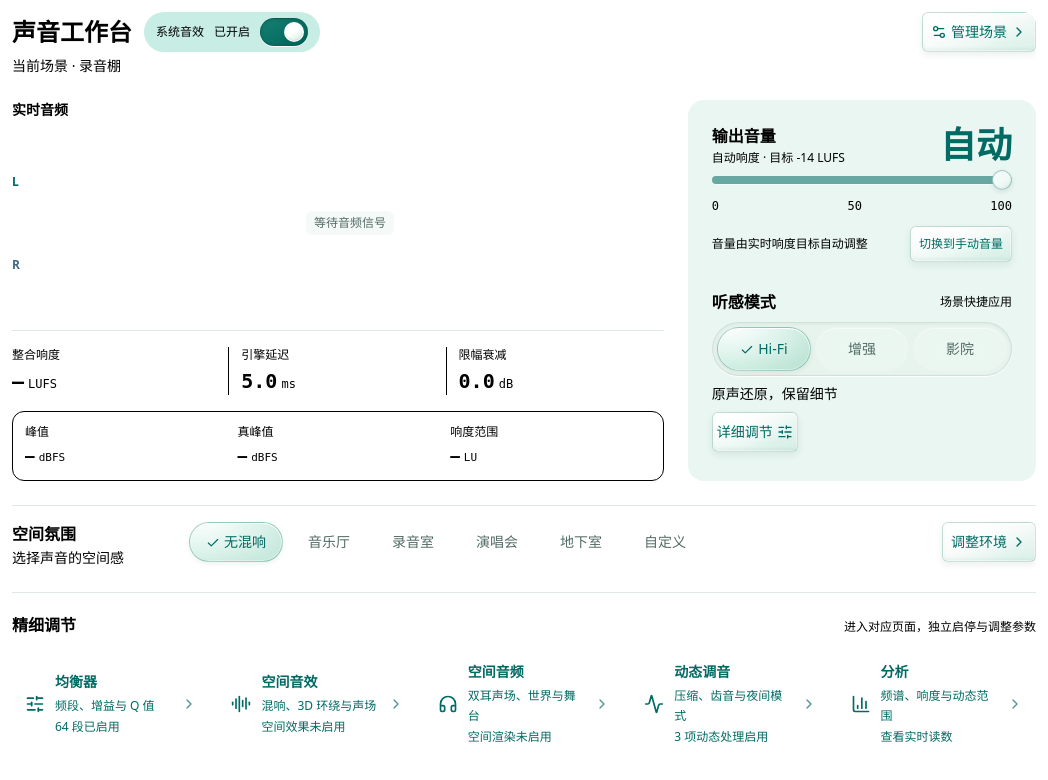
Test: HSE 首页 › 自动响度时禁用百分比滑块，显式切到手动后可调
This screenshot has width=1048, height=780.
Expected: the slider named "输出音量" is disabled, [712,176,1012,184]
Expected: the text "自动响度 · 目标 -14 LUFS" is shown, [712,150,845,166]
What coordinates should you click on to do the following:
click the button "切换到手动音量"
I would click on:
 (961, 244)
Its box is [910,226,1012,262].
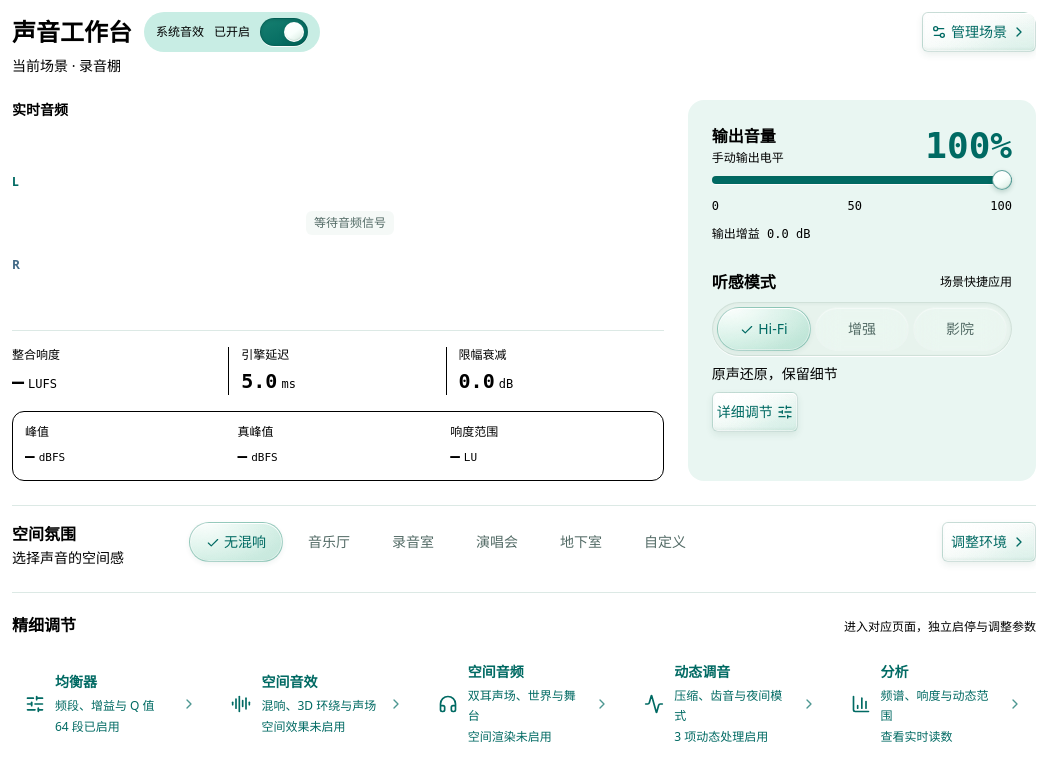
Expected: the slider named "输出音量" is enabled, [712,176,1012,184]
